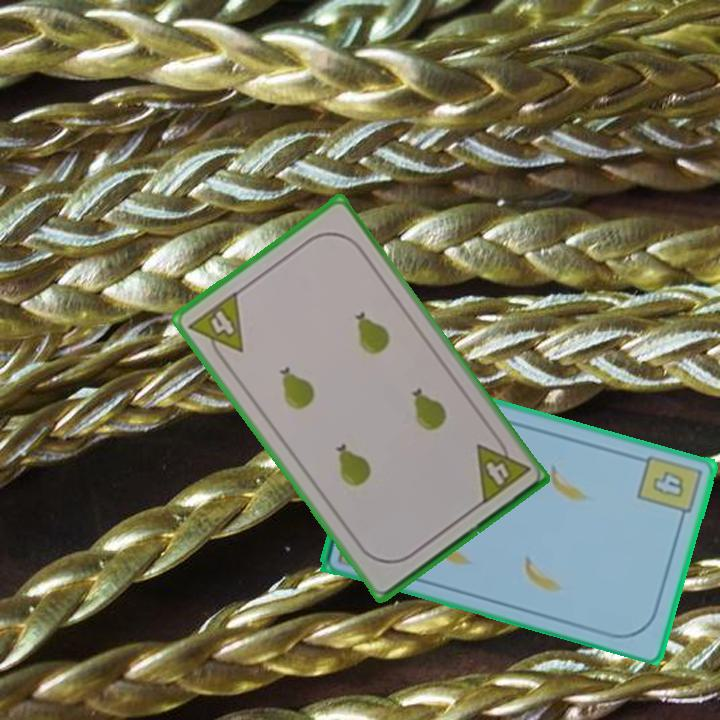4b: (633, 451, 705, 526)
4p: (184, 287, 246, 367), (472, 430, 533, 508)
